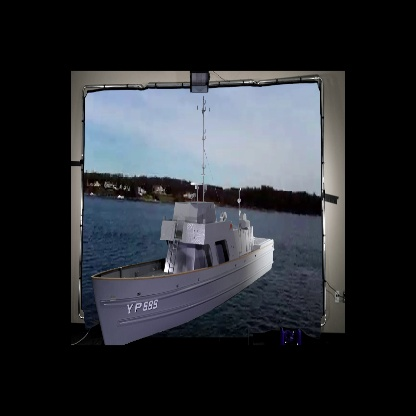YP689: (91, 92, 275, 345)
